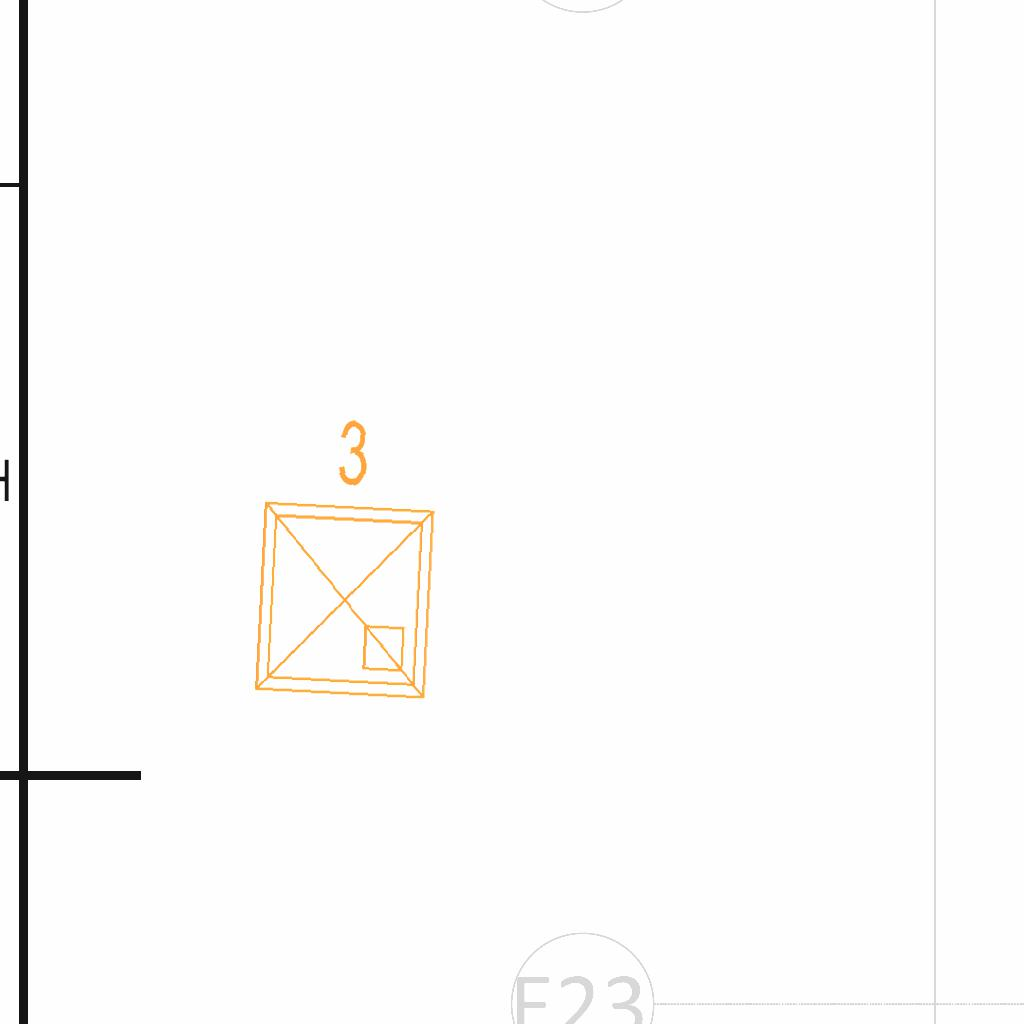Einbaudownlights_LED_Konferenzraeume: (231, 403, 455, 715)
